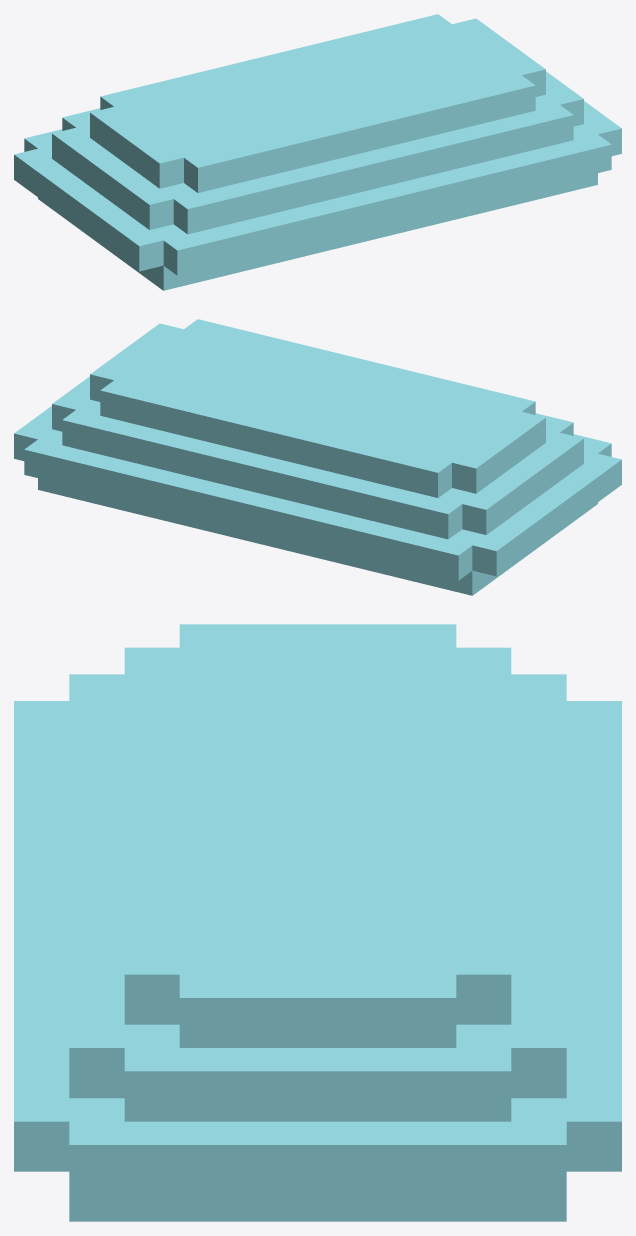
Rendered from yaneOK.obj.
The picture shows the model from 3 angles, top to bottom: view 1: azimuth 30°, elevation 25°; view 2: azimuth 150°, elevation 25°; view 3: azimuth 270°, elevation 25°; orthographic projection. The views are drawn at different scales.
Visible parts, largest first — view 1: yaneOK; view 2: yaneOK; view 3: yaneOK.
Part boxes in pixels (x1,y1,x2,y2): yaneOK: (14, 14, 621, 290); yaneOK: (14, 319, 621, 595); yaneOK: (14, 624, 621, 1221).
Size of the model in its own units: 20 by 4 by 11.
1 material, 1 textured.
